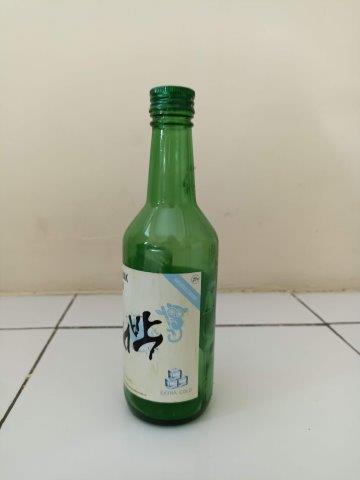botolkaca: (122, 84, 220, 427)
